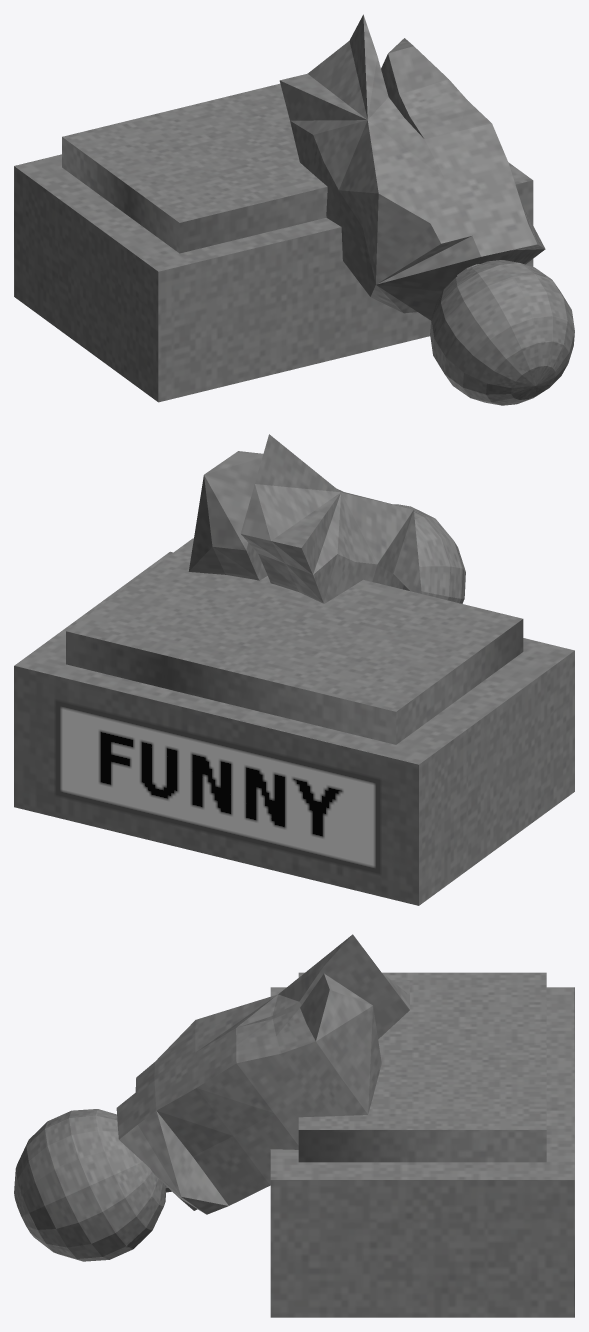
Rendered from broken-statue.fbx.
3 renders of one model, top to bottom at view 1: azimuth 30°, elevation 25°; view 2: azimuth 150°, elevation 25°; view 3: azimuth 270°, elevation 25°, orthographic. The views are drawn at different scales.
Visible parts, largest first — view 1: Cube, Cube.001; view 2: Cube, Cube.001; view 3: Cube, Cube.001.
Part boxes in pixels (x1=…): Cube: x1=14, y1=83, x2=533, y2=402; Cube.001: x1=279, y1=14, x2=574, y2=405; Cube: x1=14, y1=538, x2=574, y2=905; Cube.001: x1=188, y1=434, x2=465, y2=603; Cube: x1=270, y1=972, x2=574, y2=1317; Cube.001: x1=14, y1=934, x2=409, y2=1261.
Size of the model in its own units: 300 by 230 by 369.
Materials: 2 (2 with a texture image).
